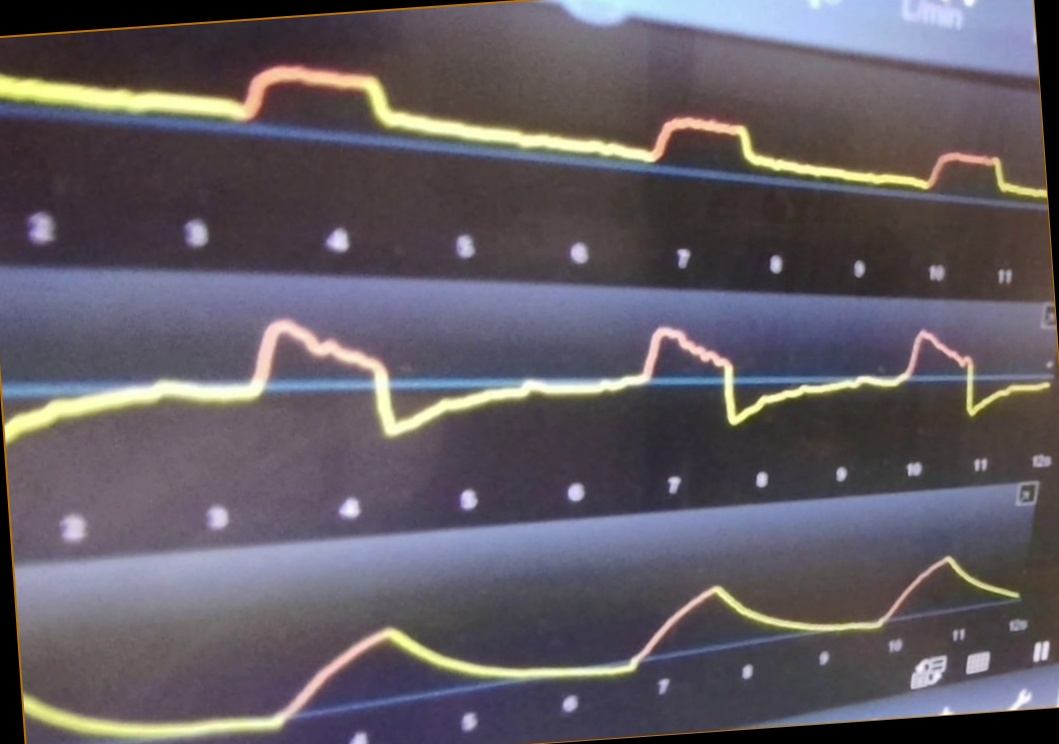Accumulation Flow: (12, 317, 1050, 453)
Volume: (23, 552, 1017, 744)
